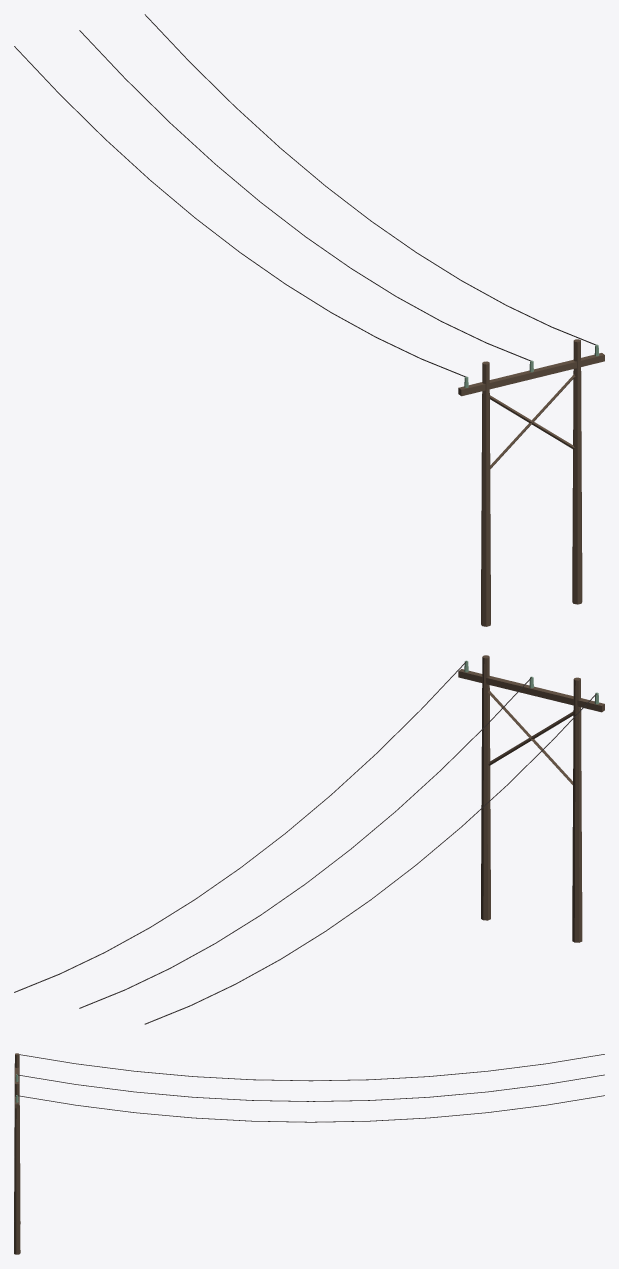
Rendered from powerline.glb.
3 views of the same model, one above another, from view 1: azimuth 30°, elevation 25°; view 2: azimuth 150°, elevation 25°; view 3: azimuth 270°, elevation 25° (orthographic). The views are drawn at different scales.
Parts seen in each view (by area): view 1: powerline; view 2: powerline; view 3: powerline.
Boxes of the visible parts, left/top/right/bottom form: powerline: left=14, top=14, right=604, bottom=626; powerline: left=14, top=655, right=604, bottom=1024; powerline: left=14, top=1053, right=604, bottom=1254.
Bounding box in the file's own units: 6.6 × 11.5 × 36.19.
